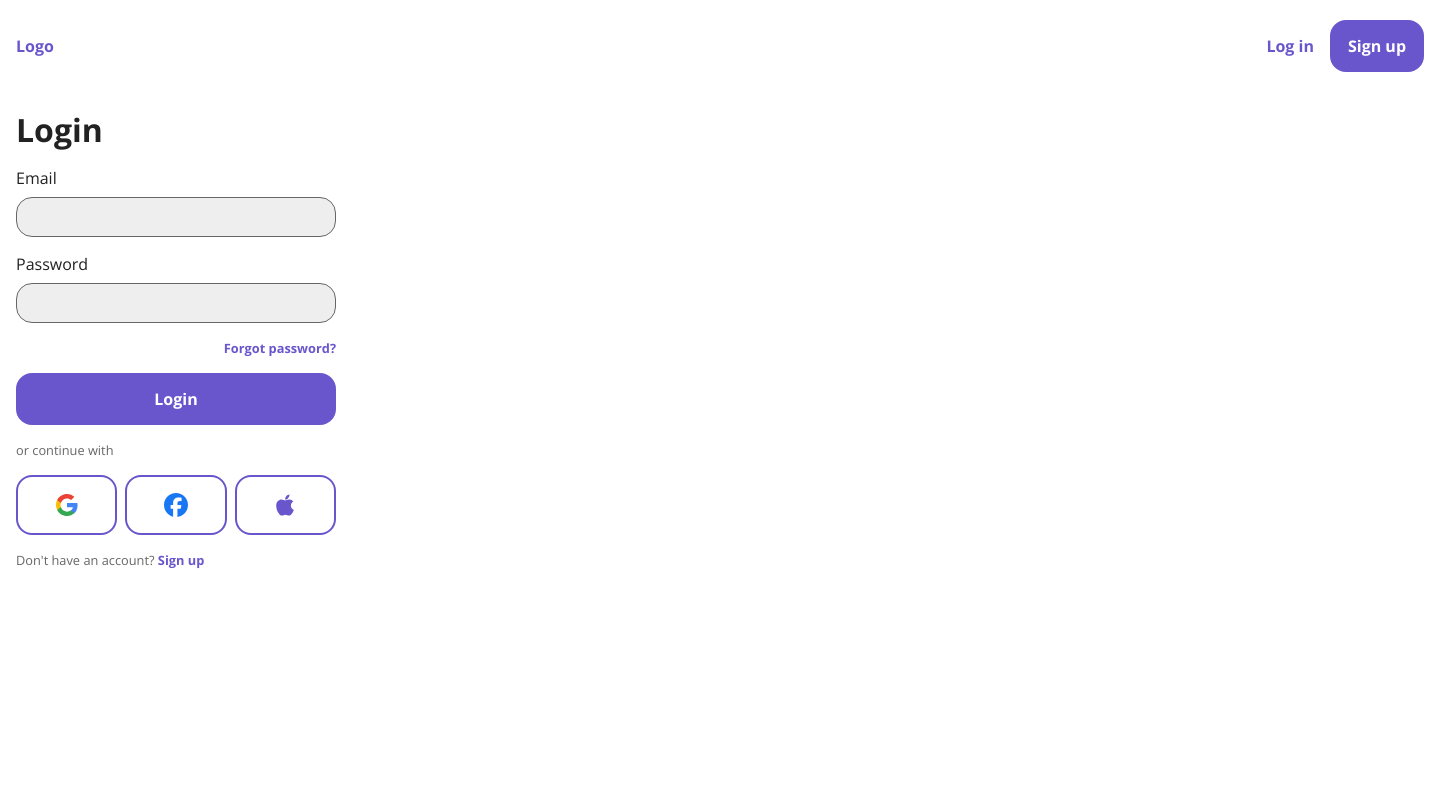
Scenario: App routing › clears an error when navigating to another page
This screenshot has width=1440, height=810.
Type "ada@example.com" into the field labelled "Email" at (176, 217), box [16,197,336,237]
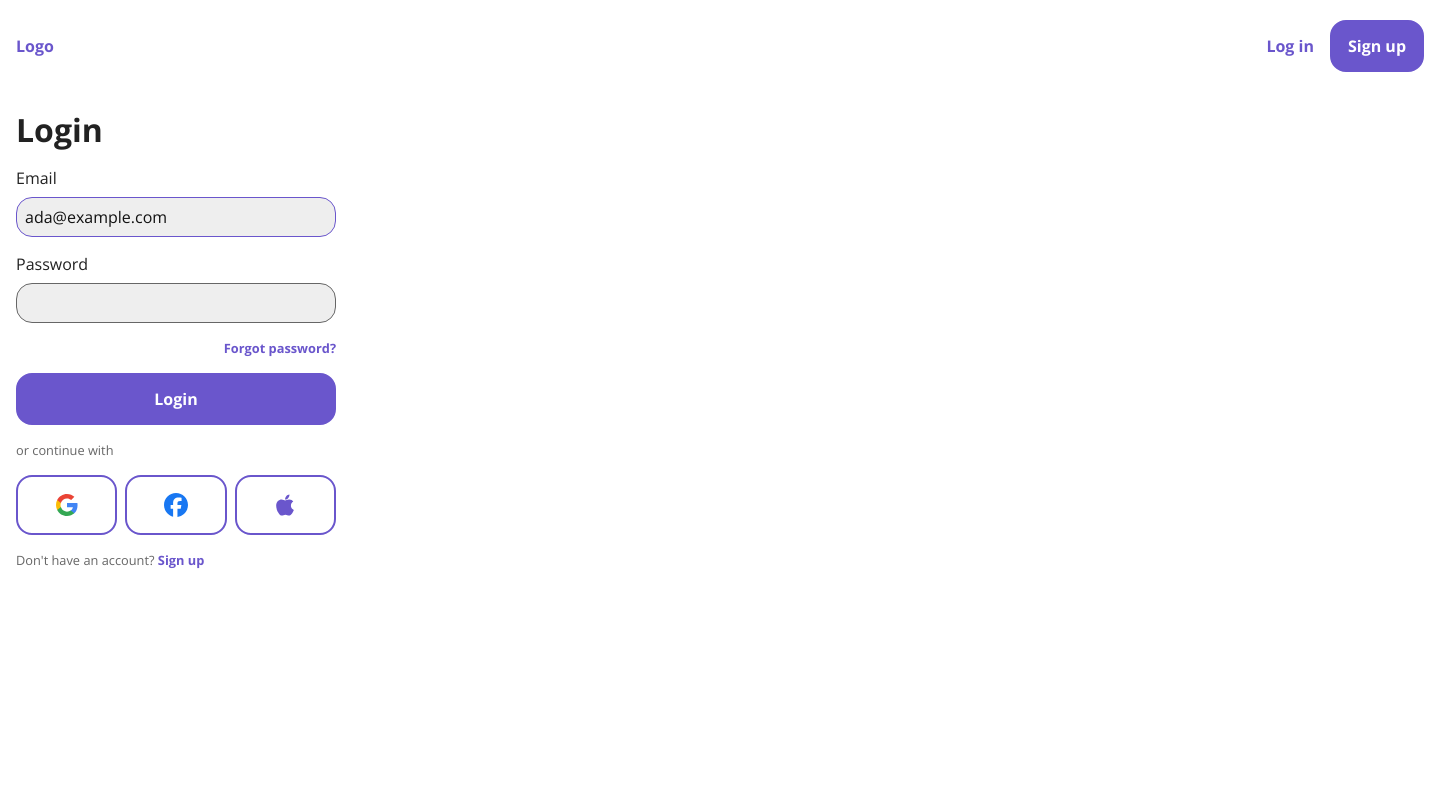
Type "wrong" into the password field labelled "Password" at (176, 303), box [16,283,336,323]
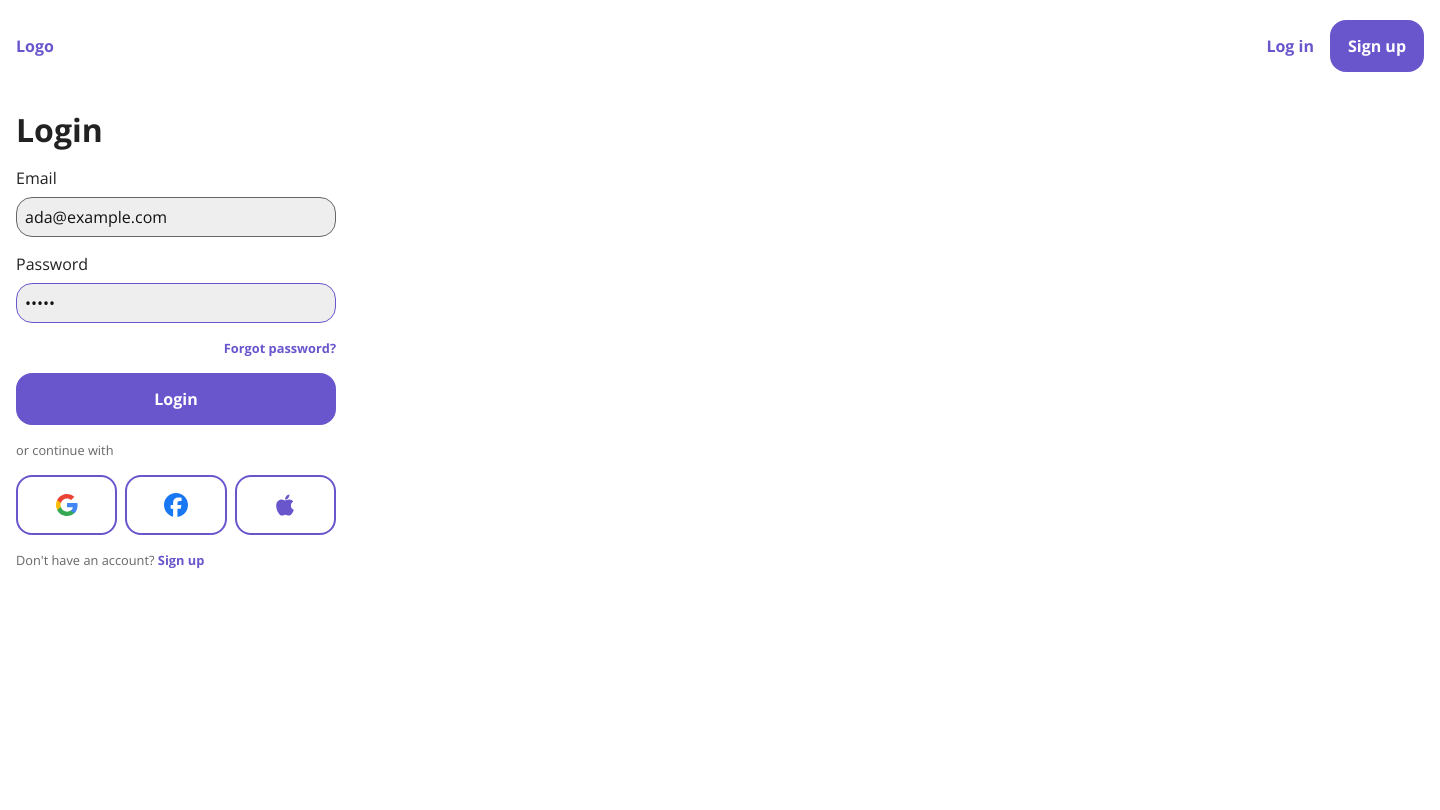
Click the button "Login" at (176, 399), box [16,373,336,425]
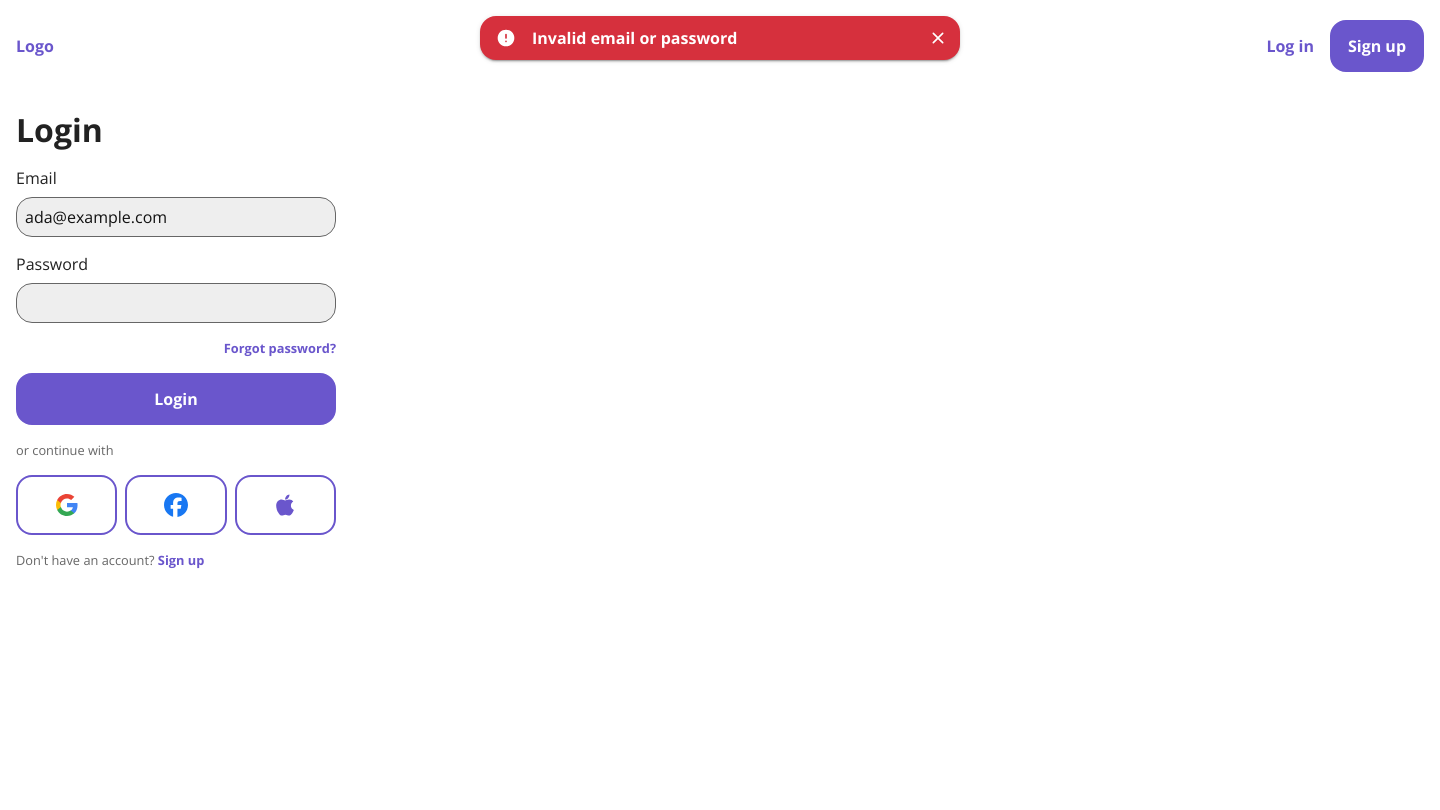
expect the text "Invalid email or password" is shown: met, box [532,27,737,49]
